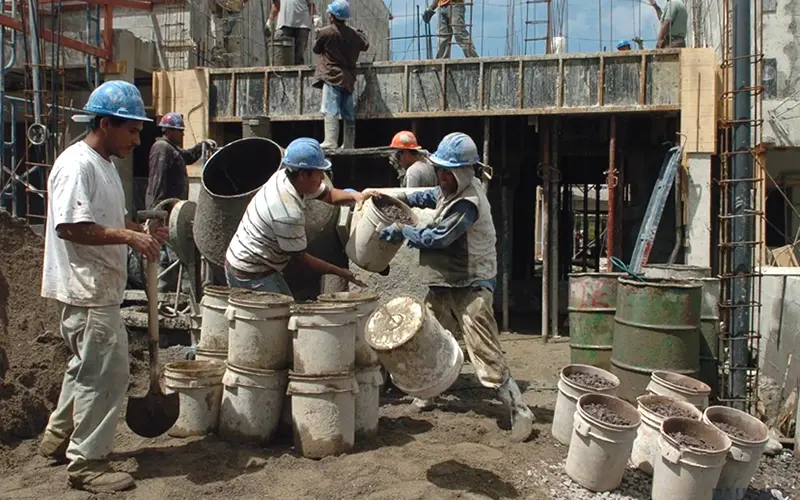Casco de seguridad: (83, 80, 152, 121), (430, 132, 482, 168), (281, 138, 331, 169), (389, 131, 420, 149), (327, 0, 350, 19), (159, 112, 184, 129)
